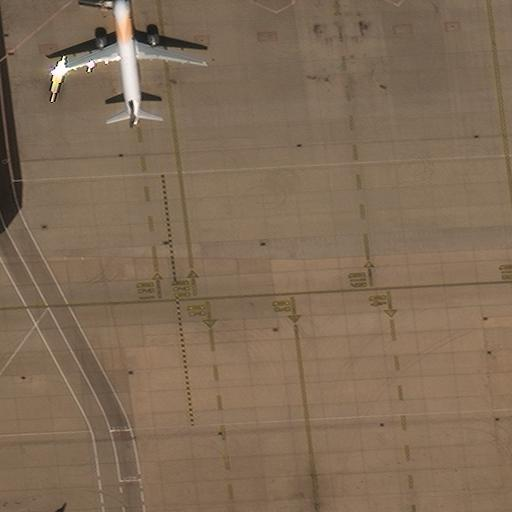Medium Civil Transport: (51, 0, 205, 126)
